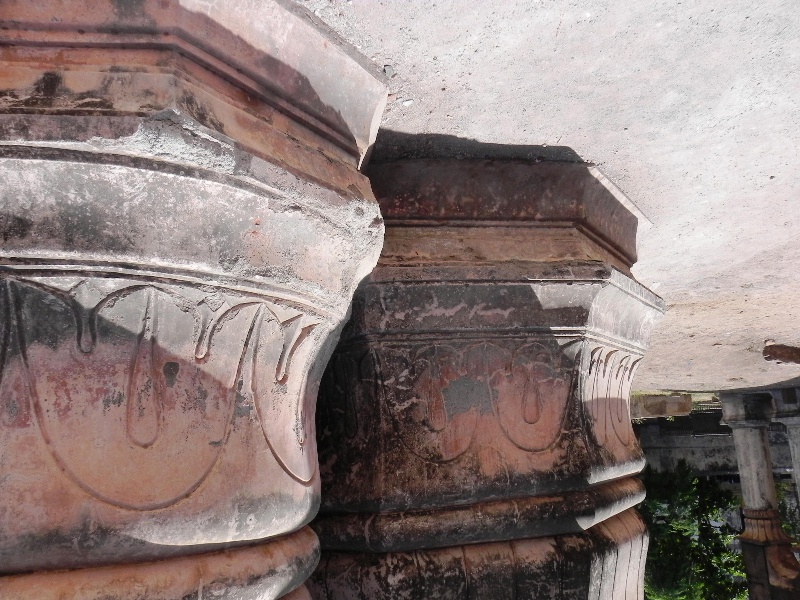Spalling: (95, 103, 260, 177)
